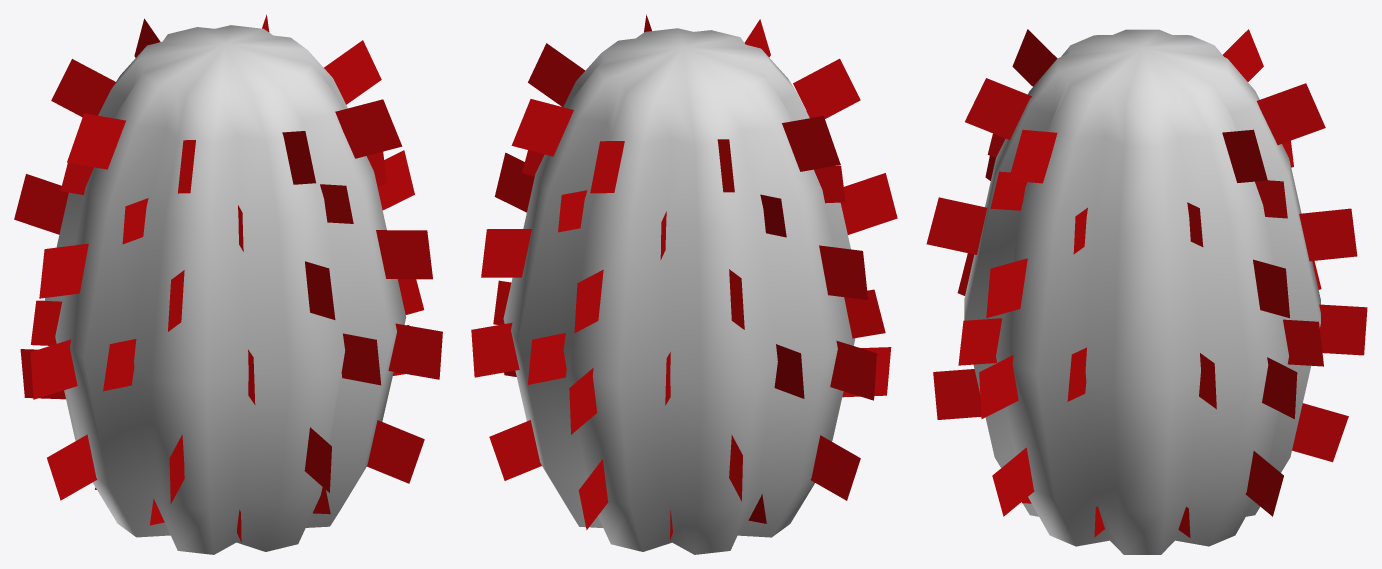
The model's file is Cactus(Short).fbx.
3 renders of one model, left to right at view 1: azimuth 30°, elevation 25°; view 2: azimuth 150°, elevation 25°; view 3: azimuth 270°, elevation 25°, orthographic.
Visible parts, largest first — view 1: Cactus(Short); view 2: Cactus(Short); view 3: Cactus(Short).
Part boxes in pixels (box(x1,y1,x2,y2)): Cactus(Short): box(14, 14, 442, 554); Cactus(Short): box(471, 14, 897, 554); Cactus(Short): box(926, 29, 1367, 554).
Size of the model in its own units: 86.98 by 100 by 86.98.
